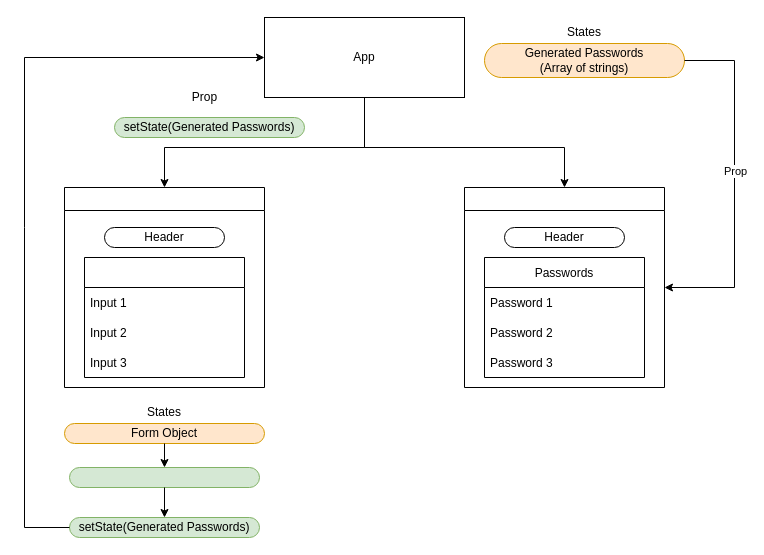
Some shapes in this 764 by 555 pixel diagram are drawn without their labels. The shapes that lost their labels are listed below. From the top down, each one's box as (x1, y1, x2, y2) in pixels, then its label:
(64, 186, 264, 388): Input Container
(464, 186, 664, 388): Output Container
(84, 256, 244, 378): Input Form
(68, 466, 260, 488): Func(generate passwords)
